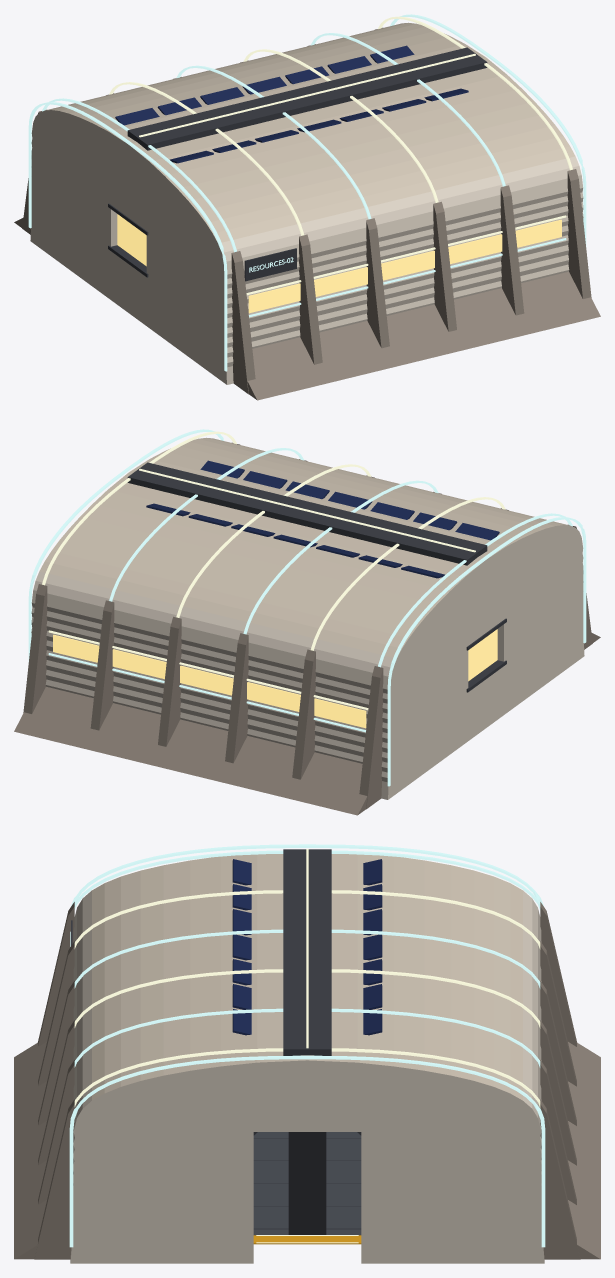
File: Storage.fbx
3 renders of one model, top to bottom at view 1: azimuth 30°, elevation 25°; view 2: azimuth 150°, elevation 25°; view 3: azimuth 270°, elevation 25°, orthographic. The views are drawn at different scales.
Parts seen in each view (by area): view 1: Storage solid, Storage trim; view 2: Storage solid, Storage trim; view 3: Storage solid, Storage trim.
Part boxes in pixels (<box>): Storage solid: <box>14,22,600,400</box>; Storage trim: <box>28,14,586,371</box>; Storage solid: <box>14,437,600,815</box>; Storage trim: <box>28,429,586,786</box>; Storage solid: <box>14,854,600,1263</box>; Storage trim: <box>69,844,545,1247</box>.
Size of the model in its own units: 9.37 by 4.32 by 10.92.
